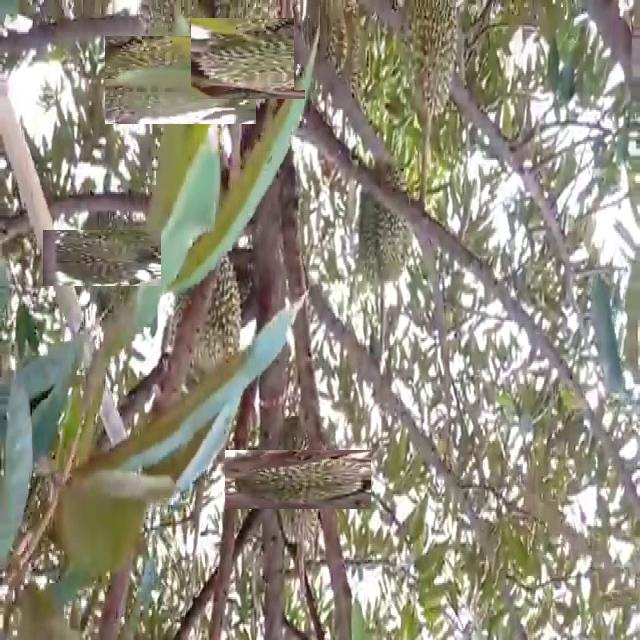durian: (164, 236, 244, 421), (120, 20, 240, 140), (246, 428, 349, 531), (350, 156, 420, 298), (199, 10, 297, 108), (398, 2, 464, 123), (58, 214, 146, 301), (294, 2, 350, 90), (323, 2, 369, 105)
